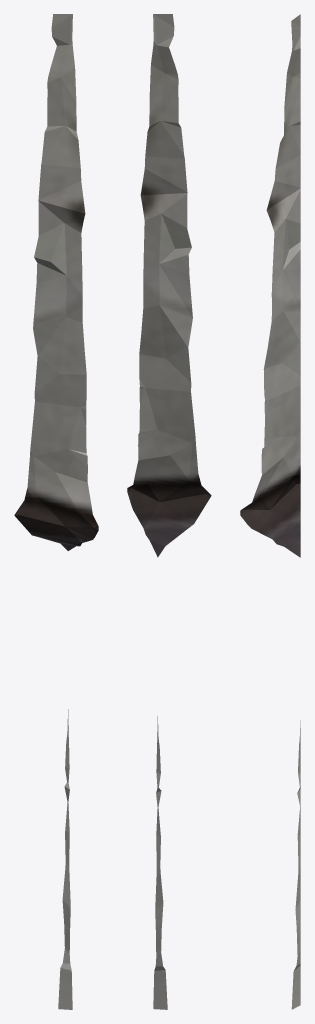
The picture shows the model from 3 angles, left to right: view 1: azimuth 30°, elevation 25°; view 2: azimuth 210°, elevation 25°; view 3: azimuth 270°, elevation 25°; orthographic projection.
Size of the model in its own units: 0.0473 by 0.8374 by 0.0465.
1 material, 1 textured.
